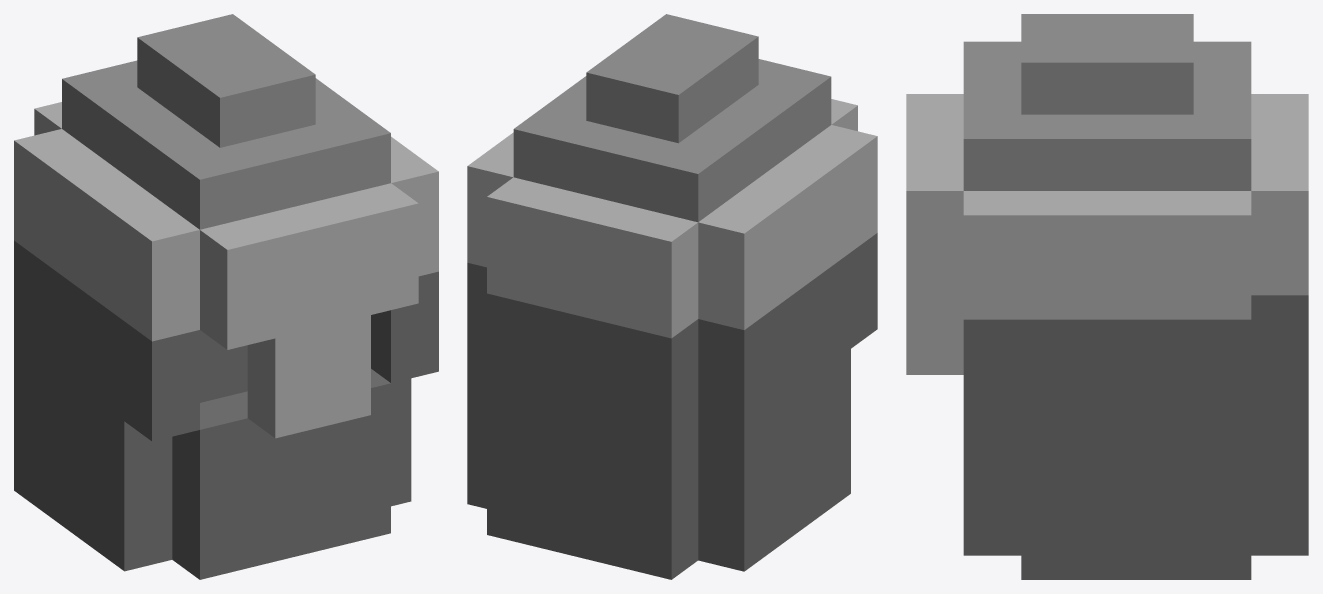
Rendered from char-6-helm_hvy_2a_sh.obj.
The picture shows the model from 3 angles, left to right: view 1: azimuth 30°, elevation 25°; view 2: azimuth 150°, elevation 25°; view 3: azimuth 270°, elevation 25°; orthographic projection. The views are drawn at different scales.
Parts seen in each view (by area): view 1: helm_hvy_2a_sh; view 2: helm_hvy_2a_sh; view 3: helm_hvy_2a_sh.
Boxes of the visible parts, x1=… form: helm_hvy_2a_sh: x1=14, y1=14, x2=438, y2=579; helm_hvy_2a_sh: x1=467, y1=14, x2=877, y2=579; helm_hvy_2a_sh: x1=906, y1=14, x2=1308, y2=579.
Size of the model in its own units: 0.6 by 0.9 by 0.7.
Materials: 1 (1 with a texture image).
